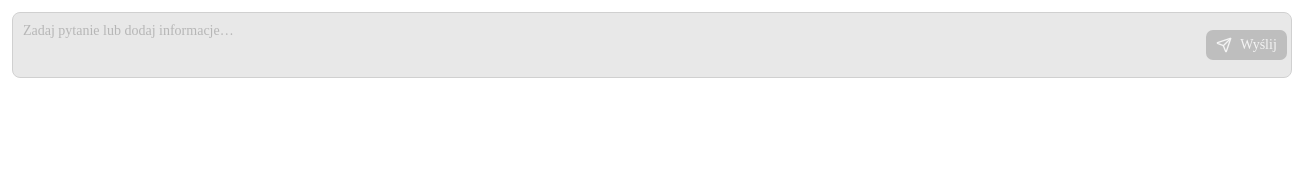
Test: ChatInput (AC-30, AC-36) › sends the trimmed text on click and clears the field
Type "  jaka data?  " into the text box with placeholder "Zadaj pytanie lub dodaj informacje…" at (609, 45), box [13,13,1205,77]
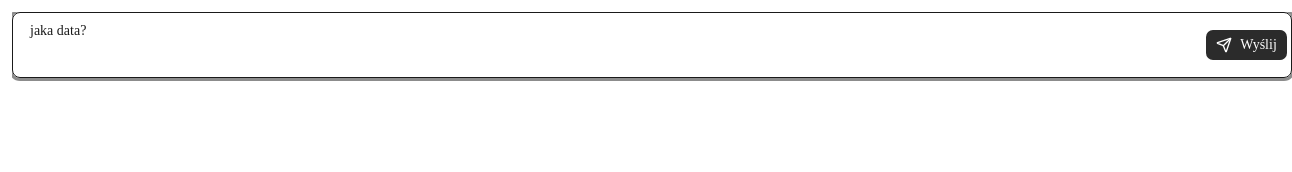
Click the button "Wyślij" at (1247, 45), box [1205,29,1288,61]
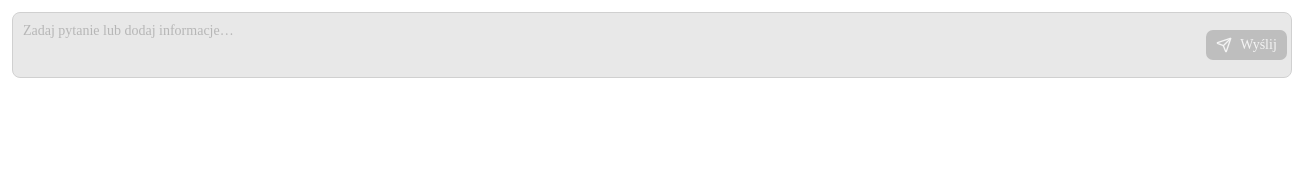
Expected: the text box with placeholder "Zadaj pytanie lub dodaj informacje…" is empty, [13,13,1205,77]
